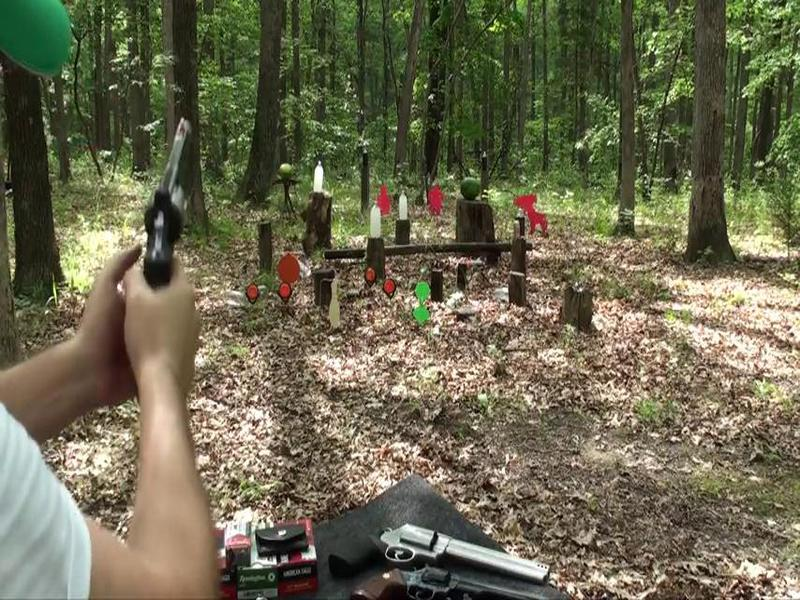Revolver: (117, 97, 197, 314)
